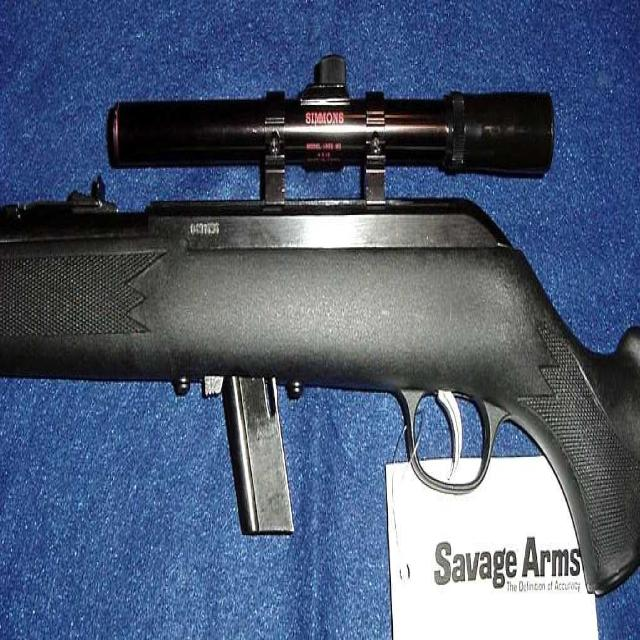heavyweapon: (1, 159, 640, 612)
